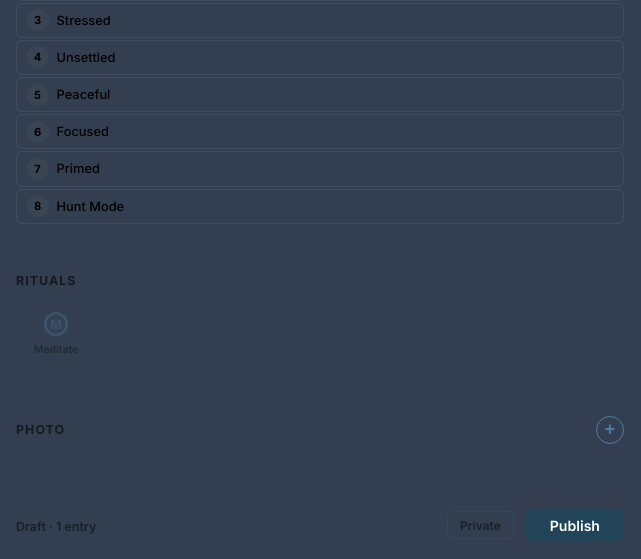
Test case: /today — publishing › confirms with a tick once published
(page scrolled)
Click the button "Publish" at (575, 525), box [526,509,624,542]
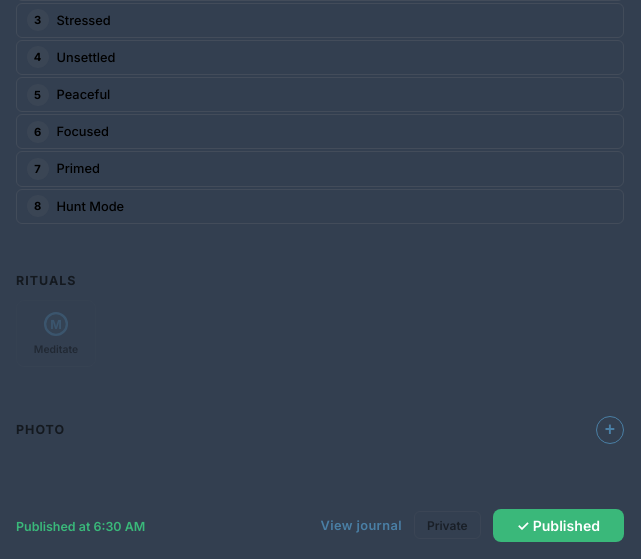
Check: the button "✓ Published" is shown, box [493,509,624,542]
